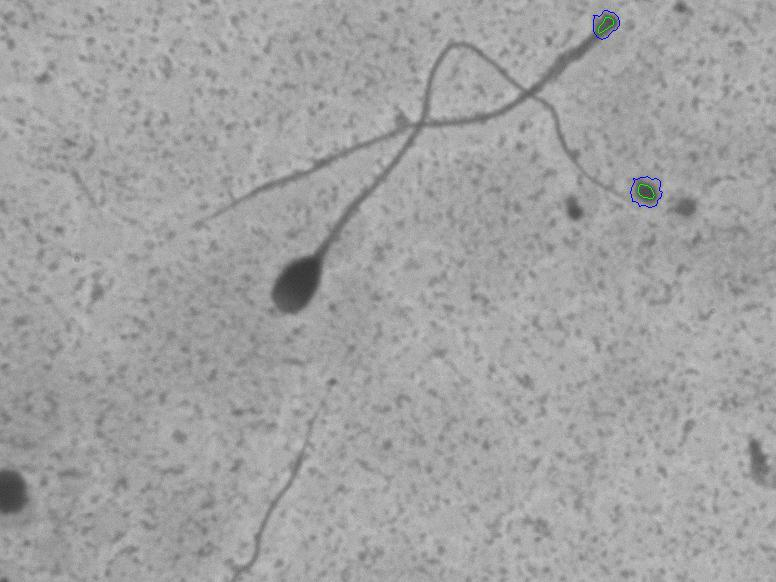Normal: (242, 27, 642, 350)
